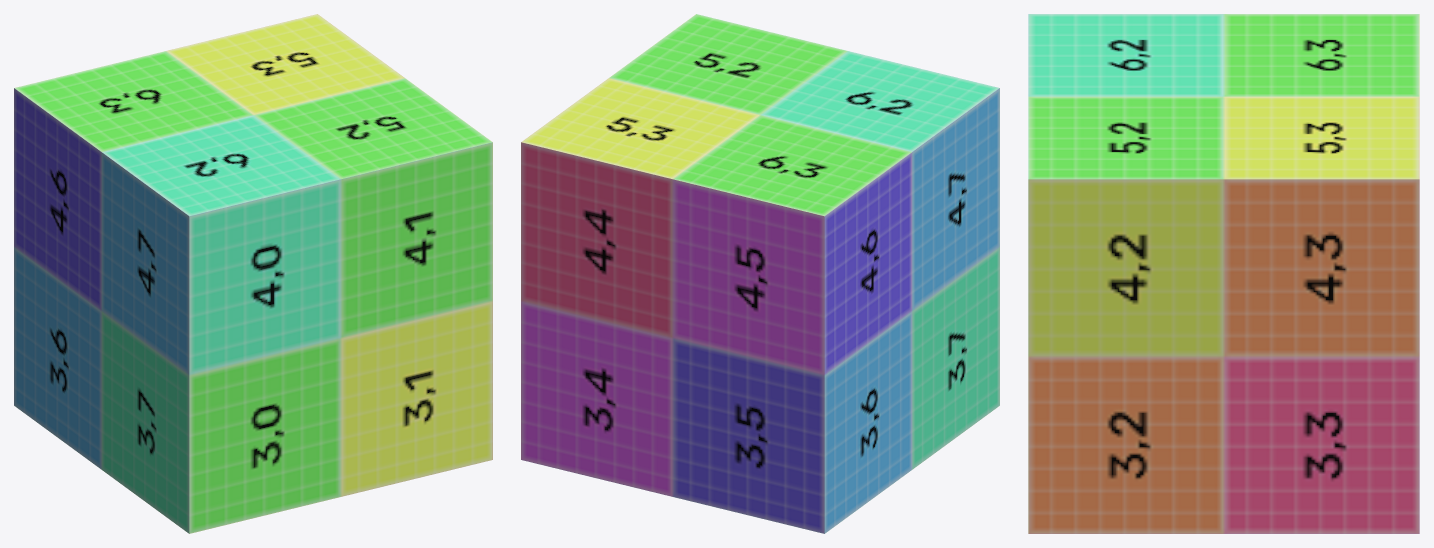
The model's file is enemy.obj.
3 renders of one model, left to right at view 1: azimuth 30°, elevation 25°; view 2: azimuth 150°, elevation 25°; view 3: azimuth 270°, elevation 25°, orthographic. The views are drawn at different scales.
Parts seen in each view (by area): view 1: Cube; view 2: Cube; view 3: Cube.
Part boxes in pixels (left/top/right/bottom): Cube: left=14, top=14, right=492, bottom=533; Cube: left=521, top=14, right=999, bottom=533; Cube: left=1028, top=14, right=1419, bottom=533.
Bounding box in the file's own units: 2 × 2 × 2.
Materials: 1 (1 with a texture image).
